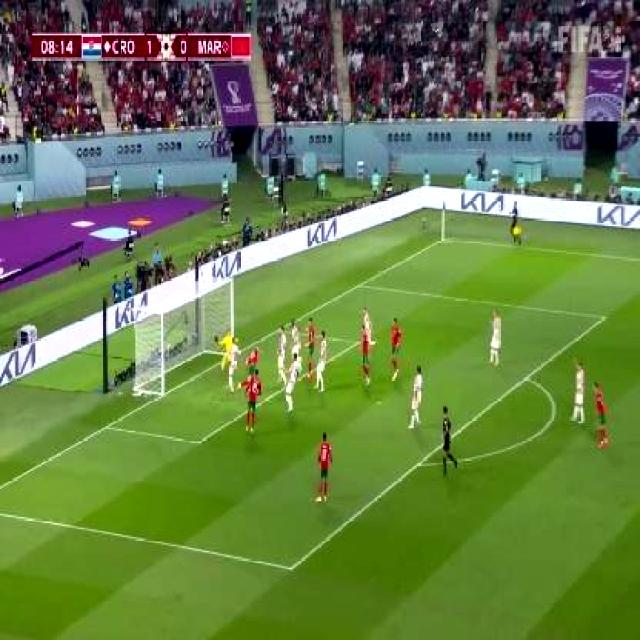bigarea_bottom_inner: (282, 554, 300, 583)
bigarea_top_inner: (598, 309, 608, 325)
bigarea_top_outter: (354, 278, 364, 291)
bottom_arc_area_intersection: (412, 454, 425, 472)
corner: (437, 235, 449, 243)
smallarea_bottom_inner: (191, 429, 206, 454)
smallarea_bottom_outter: (100, 417, 112, 435)
smallarea_top_inner: (352, 337, 363, 348)
smallarea_top_outter: (272, 323, 282, 335)
top_arc_area_intersection: (522, 369, 530, 385)
